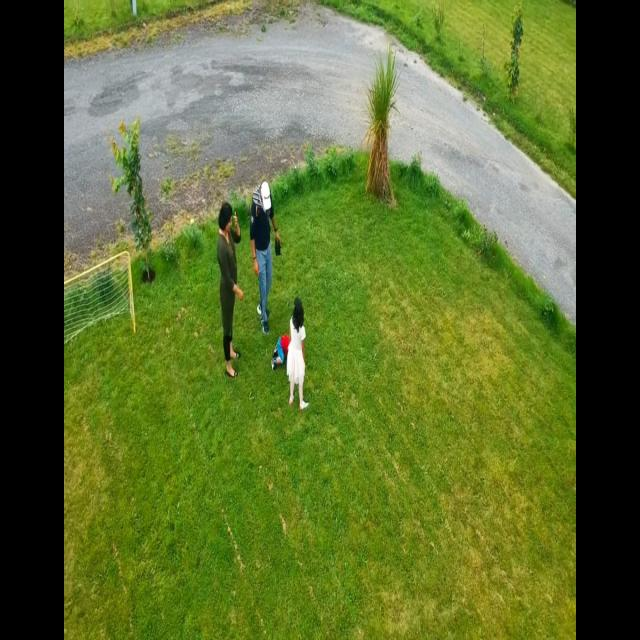humans: (214, 190, 244, 389), (249, 175, 283, 339), (284, 297, 312, 421), (268, 331, 288, 372)
